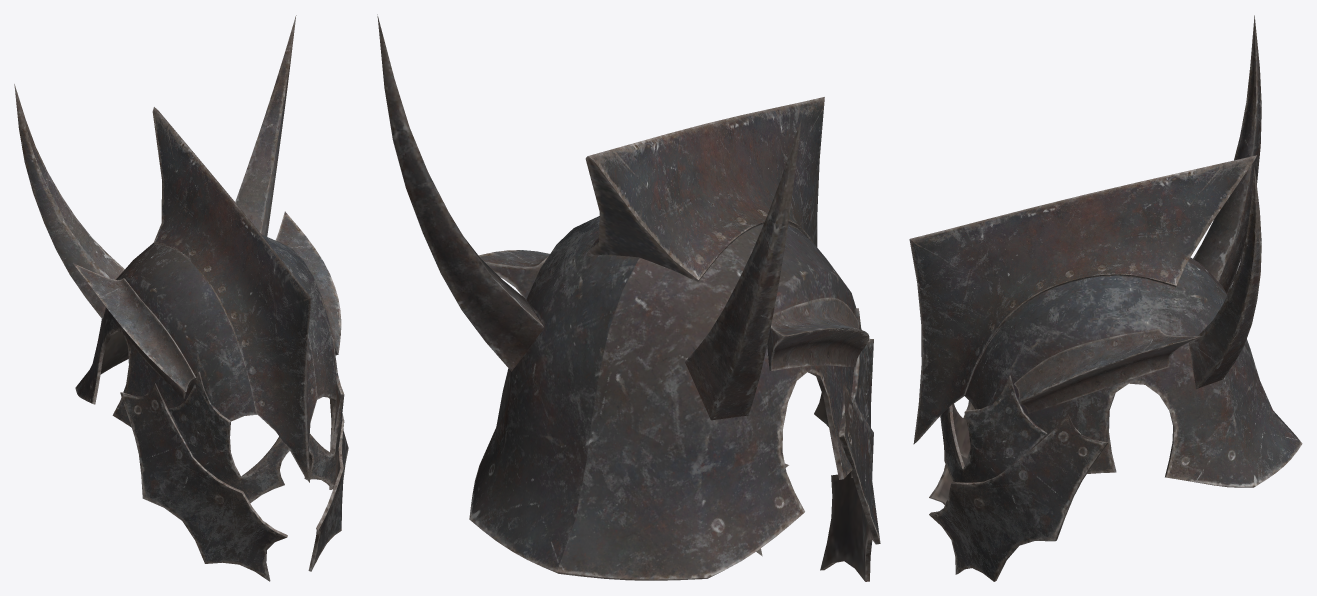
Rendered from sk_dg_uruk_helmet_lord_a.fbx.
3 views of the same model, side by side, from view 1: azimuth 30°, elevation 25°; view 2: azimuth 150°, elevation 25°; view 3: azimuth 270°, elevation 25° (orthographic). The views are drawn at different scales.
Visible parts, largest first — view 1: sk_dg_uruk_helmet_lord_a; view 2: sk_dg_uruk_helmet_lord_a; view 3: sk_dg_uruk_helmet_lord_a.
Part boxes in pixels (x1=…): sk_dg_uruk_helmet_lord_a: x1=14, y1=15, x2=348, y2=581; sk_dg_uruk_helmet_lord_a: x1=377, y1=14, x2=880, y2=581; sk_dg_uruk_helmet_lord_a: x1=909, y1=15, x2=1302, y2=581.
Bounding box in the file's own units: 0.307 × 0.3357 × 0.4465.
Materials: 1 (1 with a texture image).
